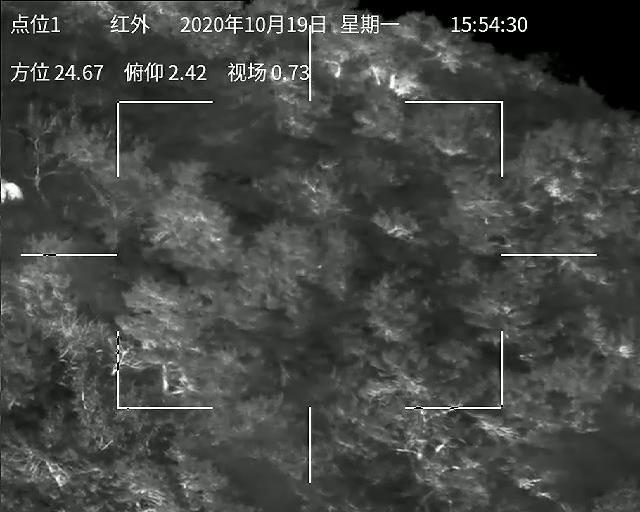uav: (296, 267, 309, 279)
